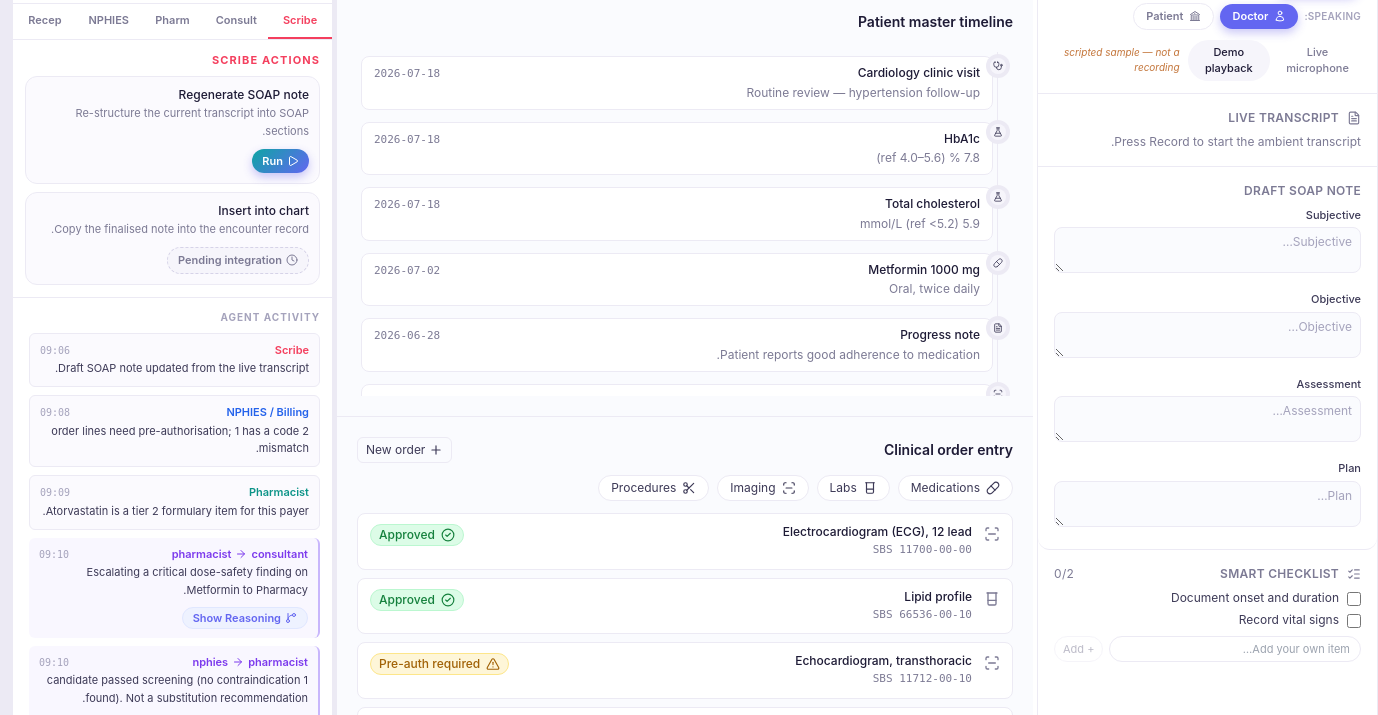
Scenario: AI Team drawer › appends to the activity stream when an action is run
Click the button "Run". click: coordinates (281, 161)
box: [252, 149, 309, 173]
(page scrolled)
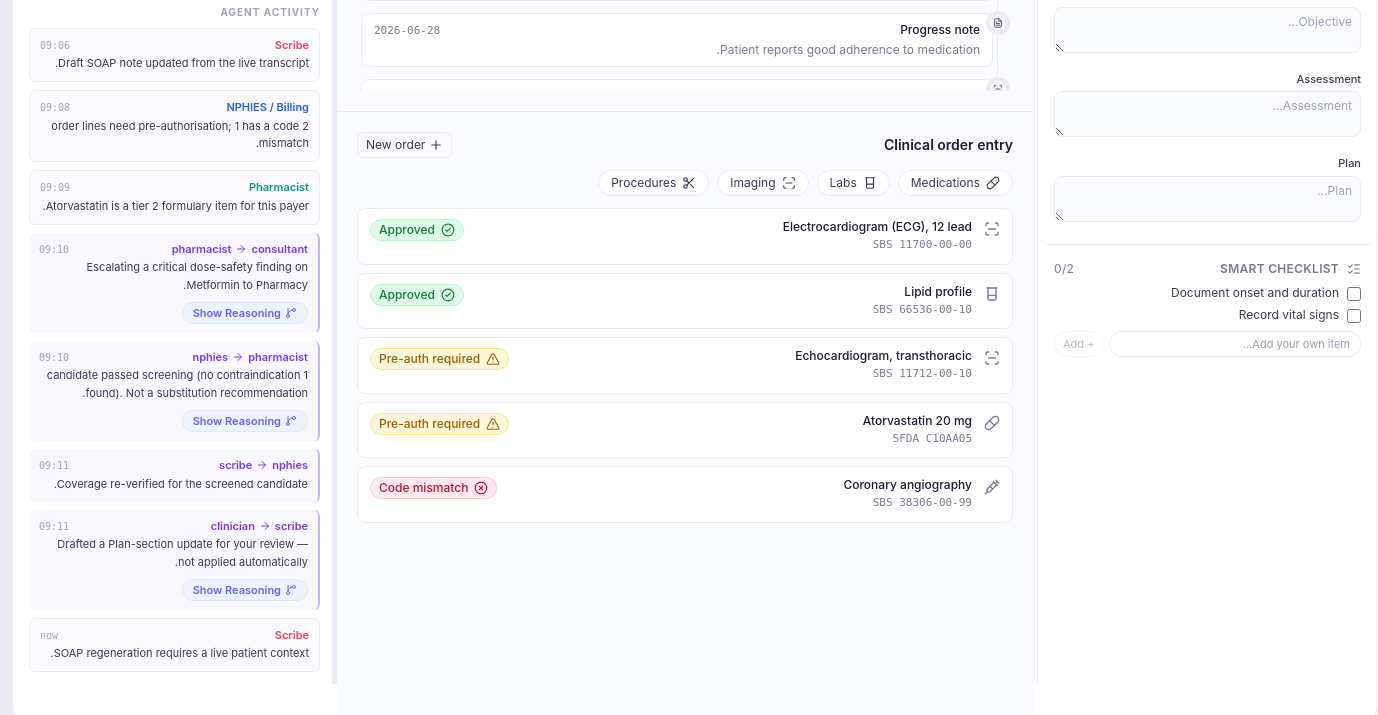
Expected: the text "SOAP regeneration requires a live patient context." is shown, [40, 645, 309, 663]
